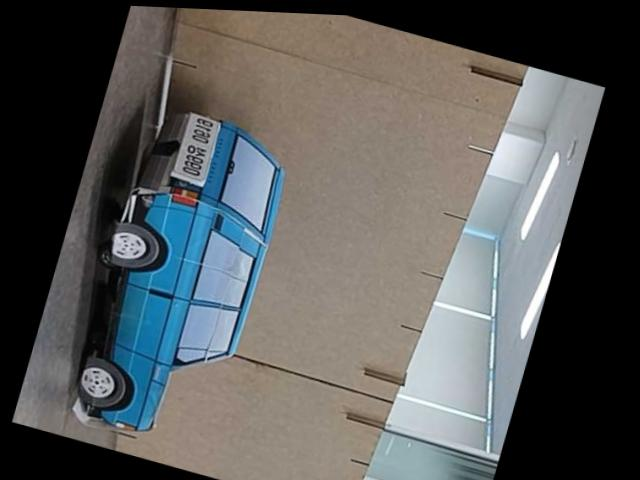car: (52, 91, 302, 464)
id: (168, 110, 226, 188)
